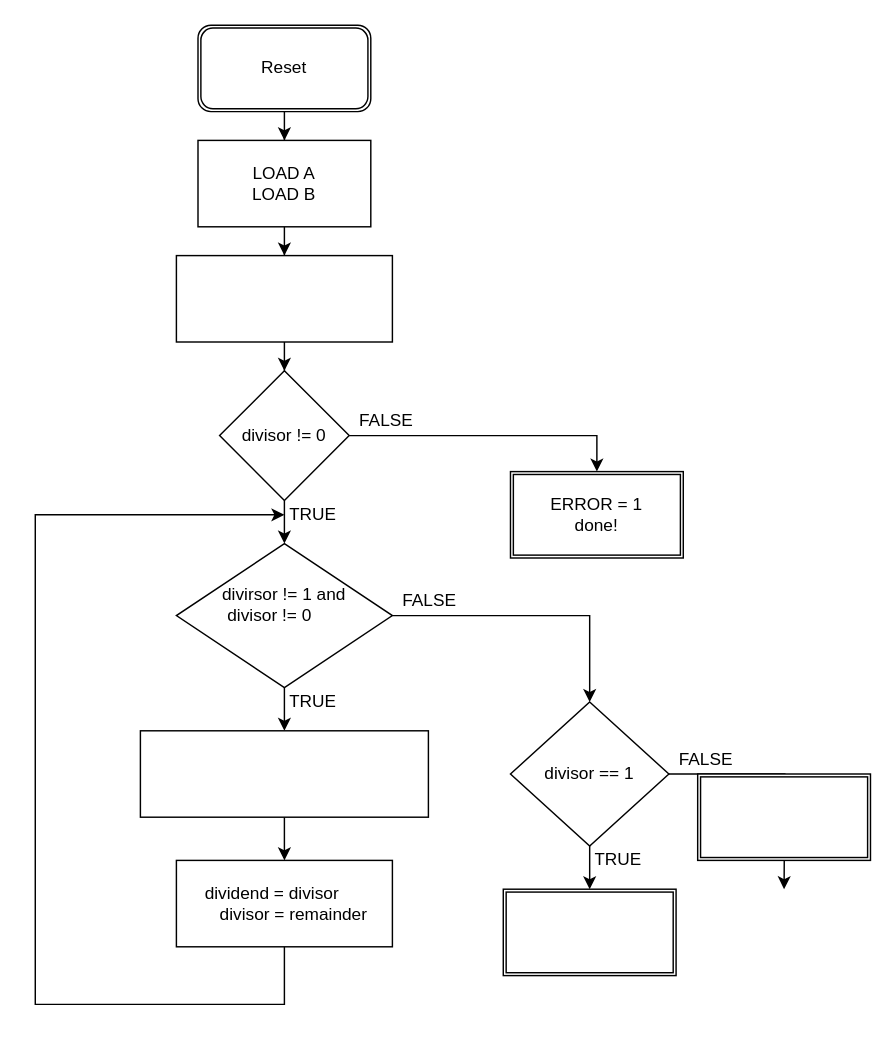
Some shapes in this 896 by 1041 pixel diagram are drawn without their labels. Each missing label, with the box of its shape:
dividend = max(A,B) divisor = min(A,B): (175, 254, 392, 342)
quotient = dividend / divisor remainder = dividend % divisor: (139, 729, 428, 817)
result = 1 done!: (502, 888, 676, 976)
result = dividend done!: (696, 773, 870, 860)
